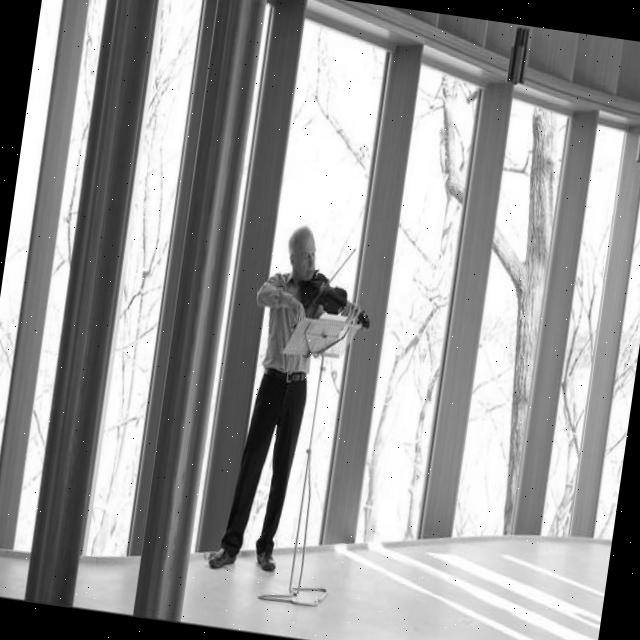violin: (294, 267, 379, 336)
